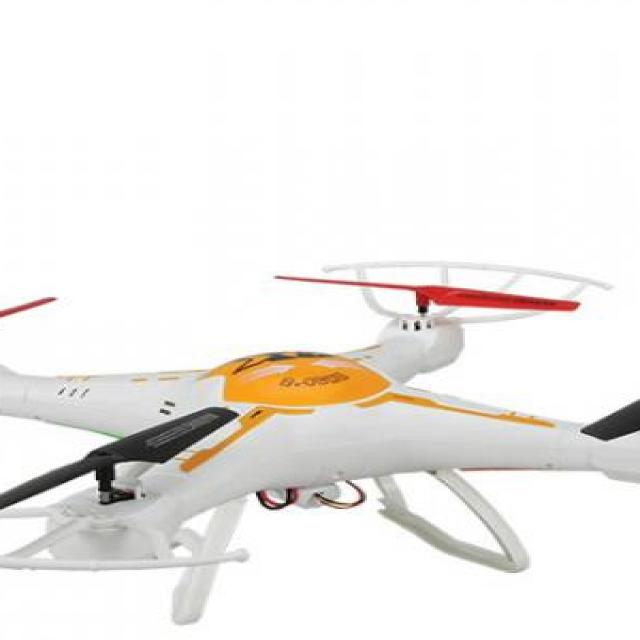drone: (0, 242, 640, 632)
